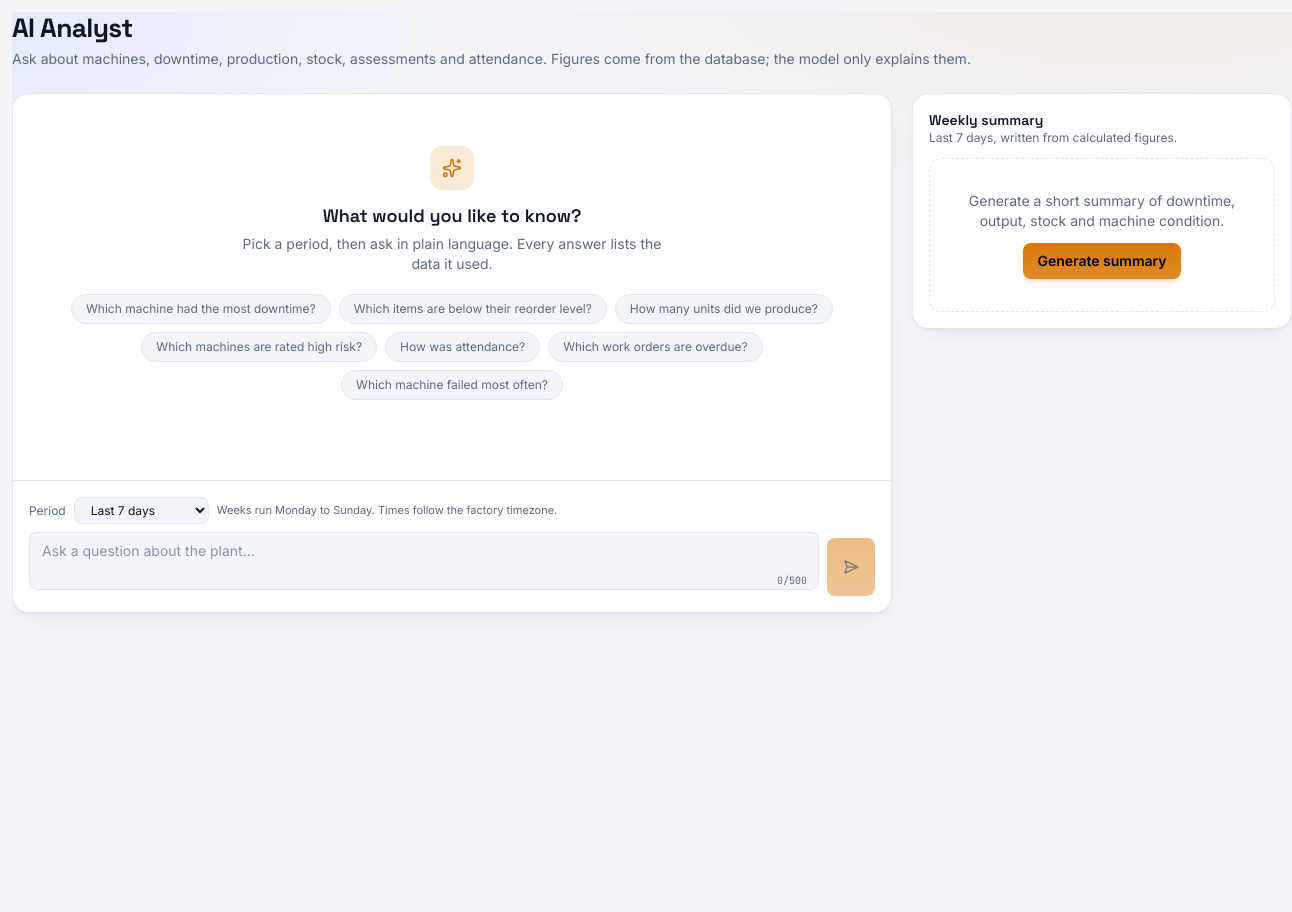
Test: asking a question › keeps earlier answers on screen when a later question fails
The width and height of the screenshot is (1292, 912).
Type "First question" into the text box named "Your question" at (424, 561), box [29,532,819,590]
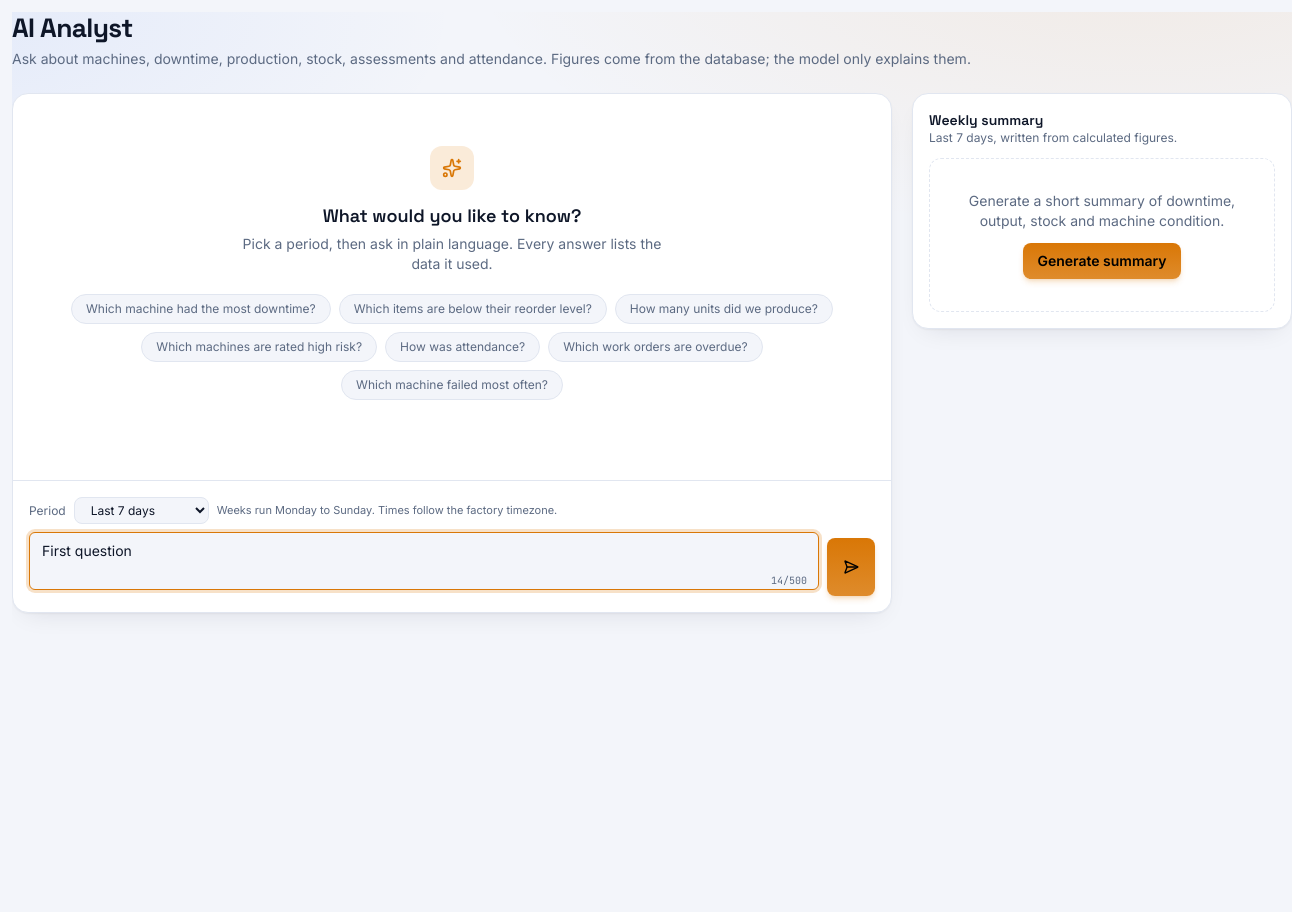
Press Enter
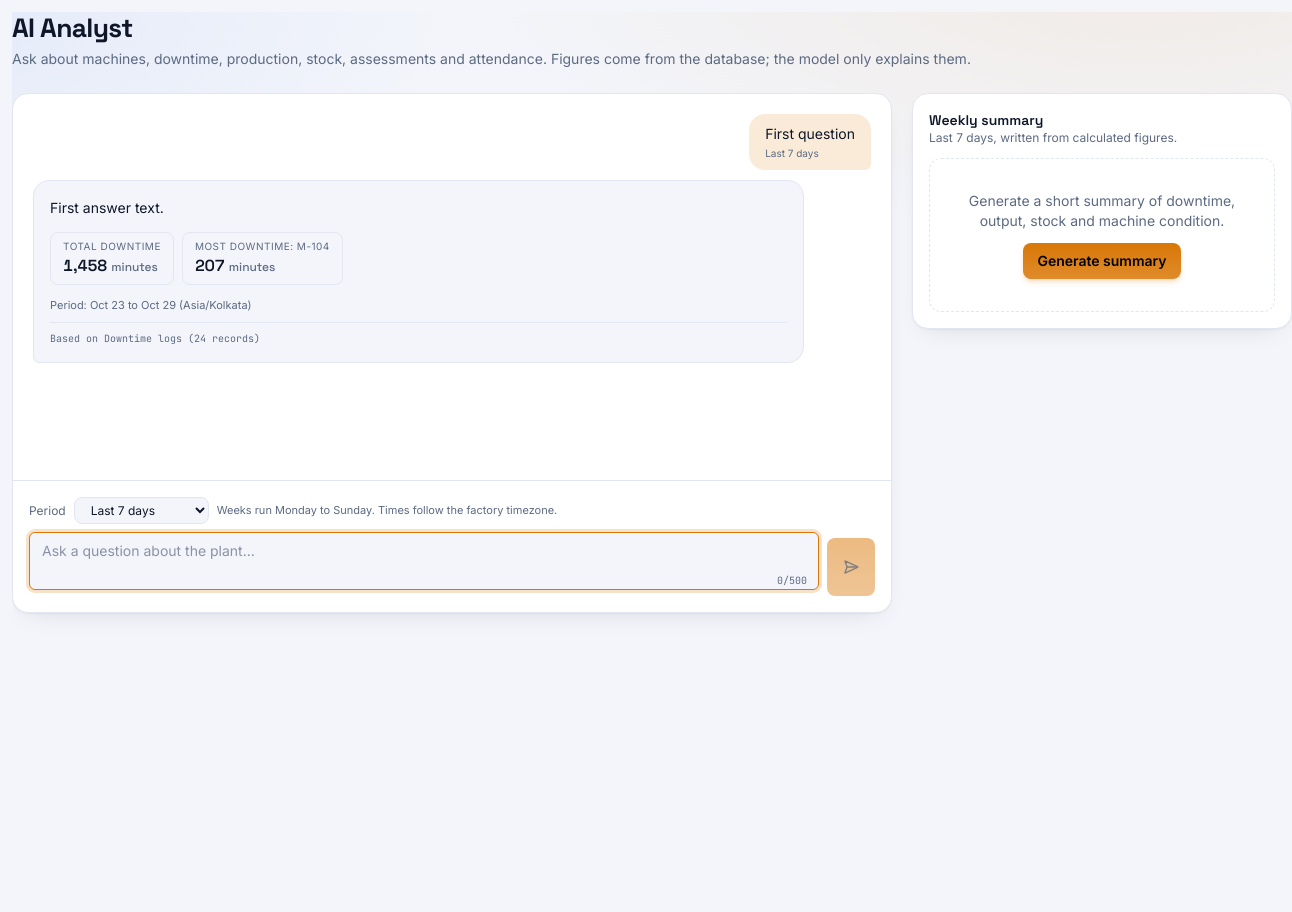
Result: the text "First answer text." is shown at [50,199,164,216]
Type "Second question" into the text box named "Your question" at (424, 561), box [29,532,819,590]
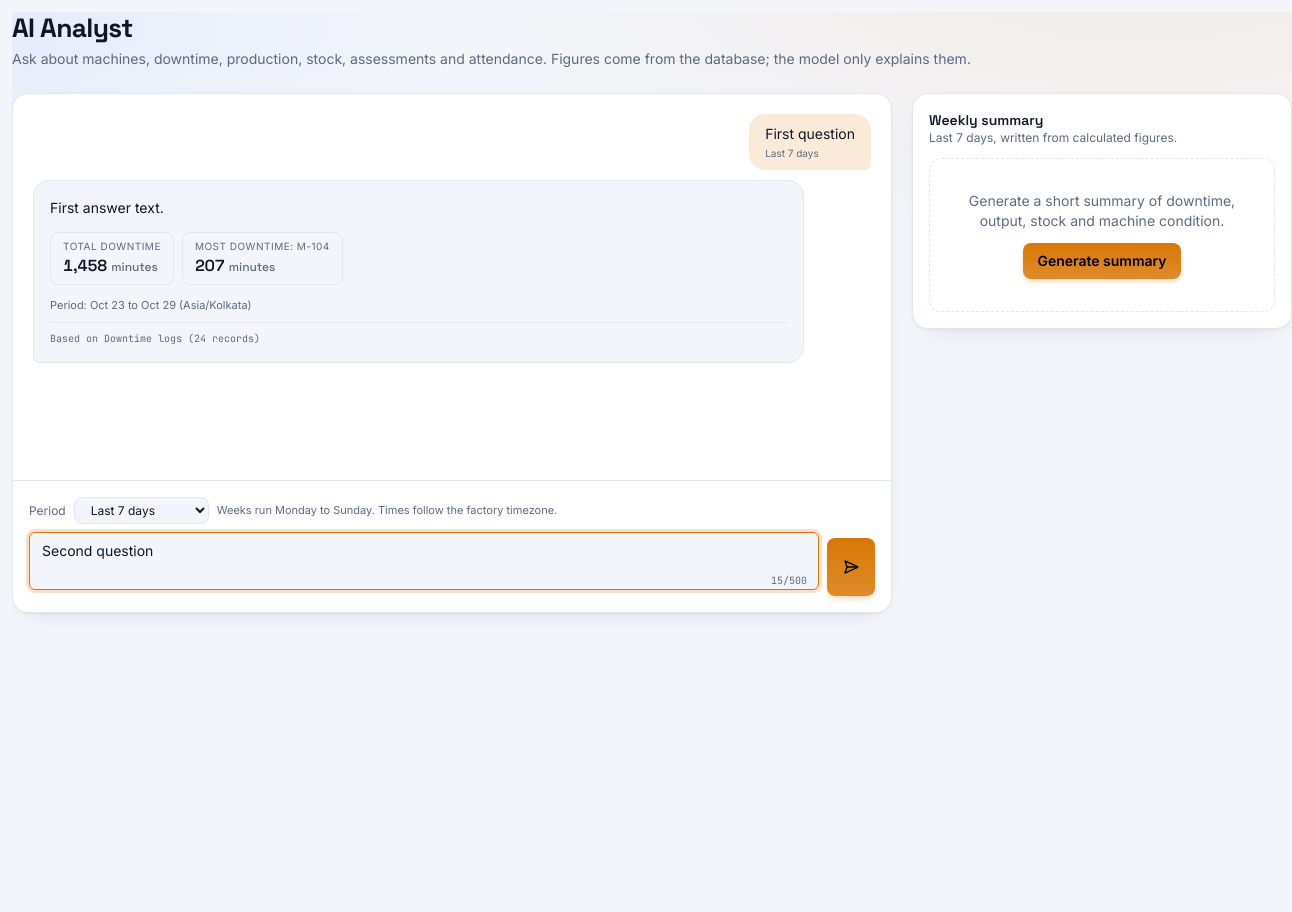
Press Enter
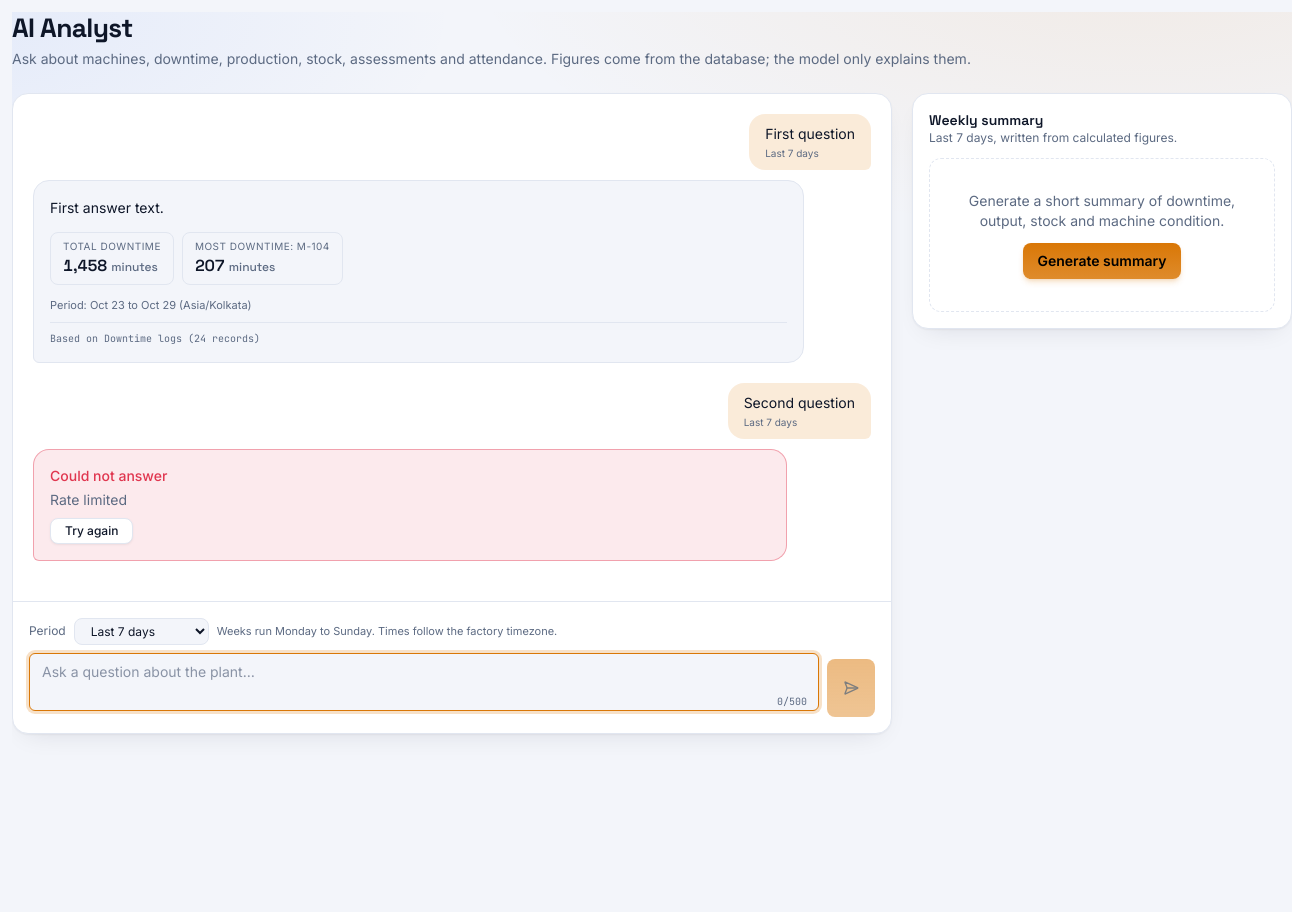
Result: the text "First answer text." is shown at [50,199,164,216]
Result: the text "Rate limited" is shown at [50,491,127,508]
